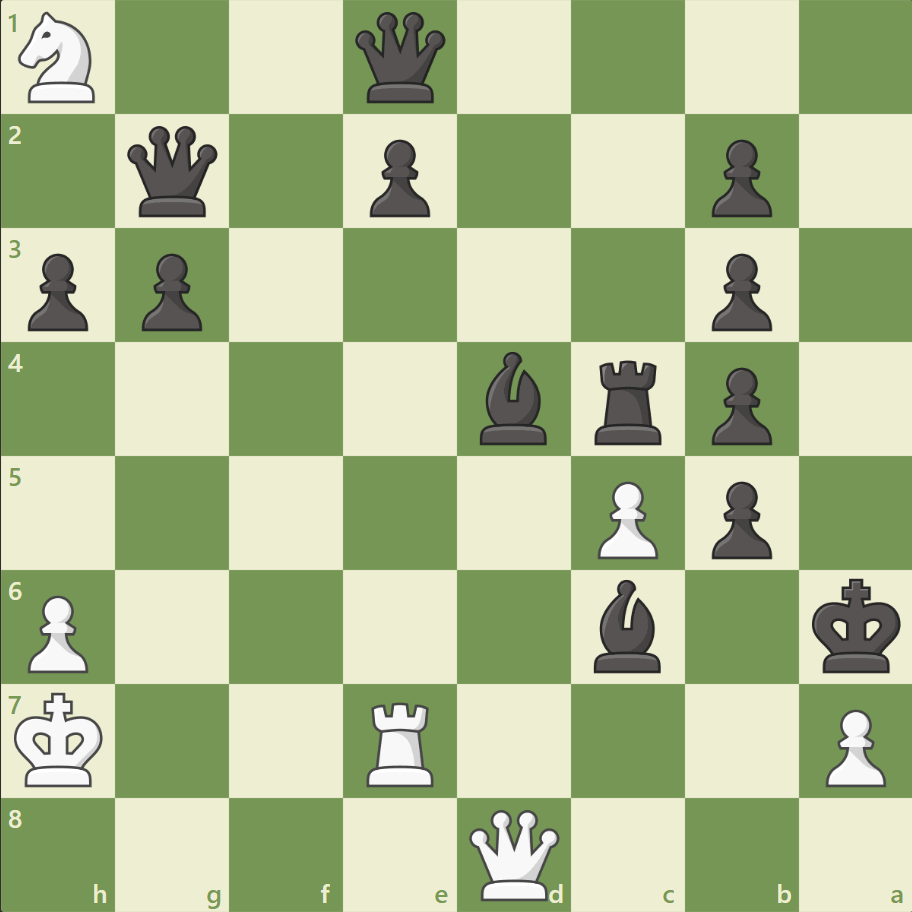K: (11, 685, 111, 793)
N: (11, 7, 108, 110)
P: (20, 586, 95, 677), (815, 700, 889, 791), (588, 473, 662, 564)
Q: (464, 804, 563, 903)
R: (360, 693, 442, 790)
b: (585, 574, 669, 676), (471, 347, 555, 449)
k: (806, 571, 906, 679)
p: (701, 473, 776, 564), (701, 359, 776, 450), (701, 246, 776, 337), (133, 246, 208, 337), (20, 246, 95, 337), (701, 132, 776, 223), (361, 132, 435, 223)
q: (124, 122, 223, 222), (351, 9, 450, 108)
r: (587, 352, 670, 449)
